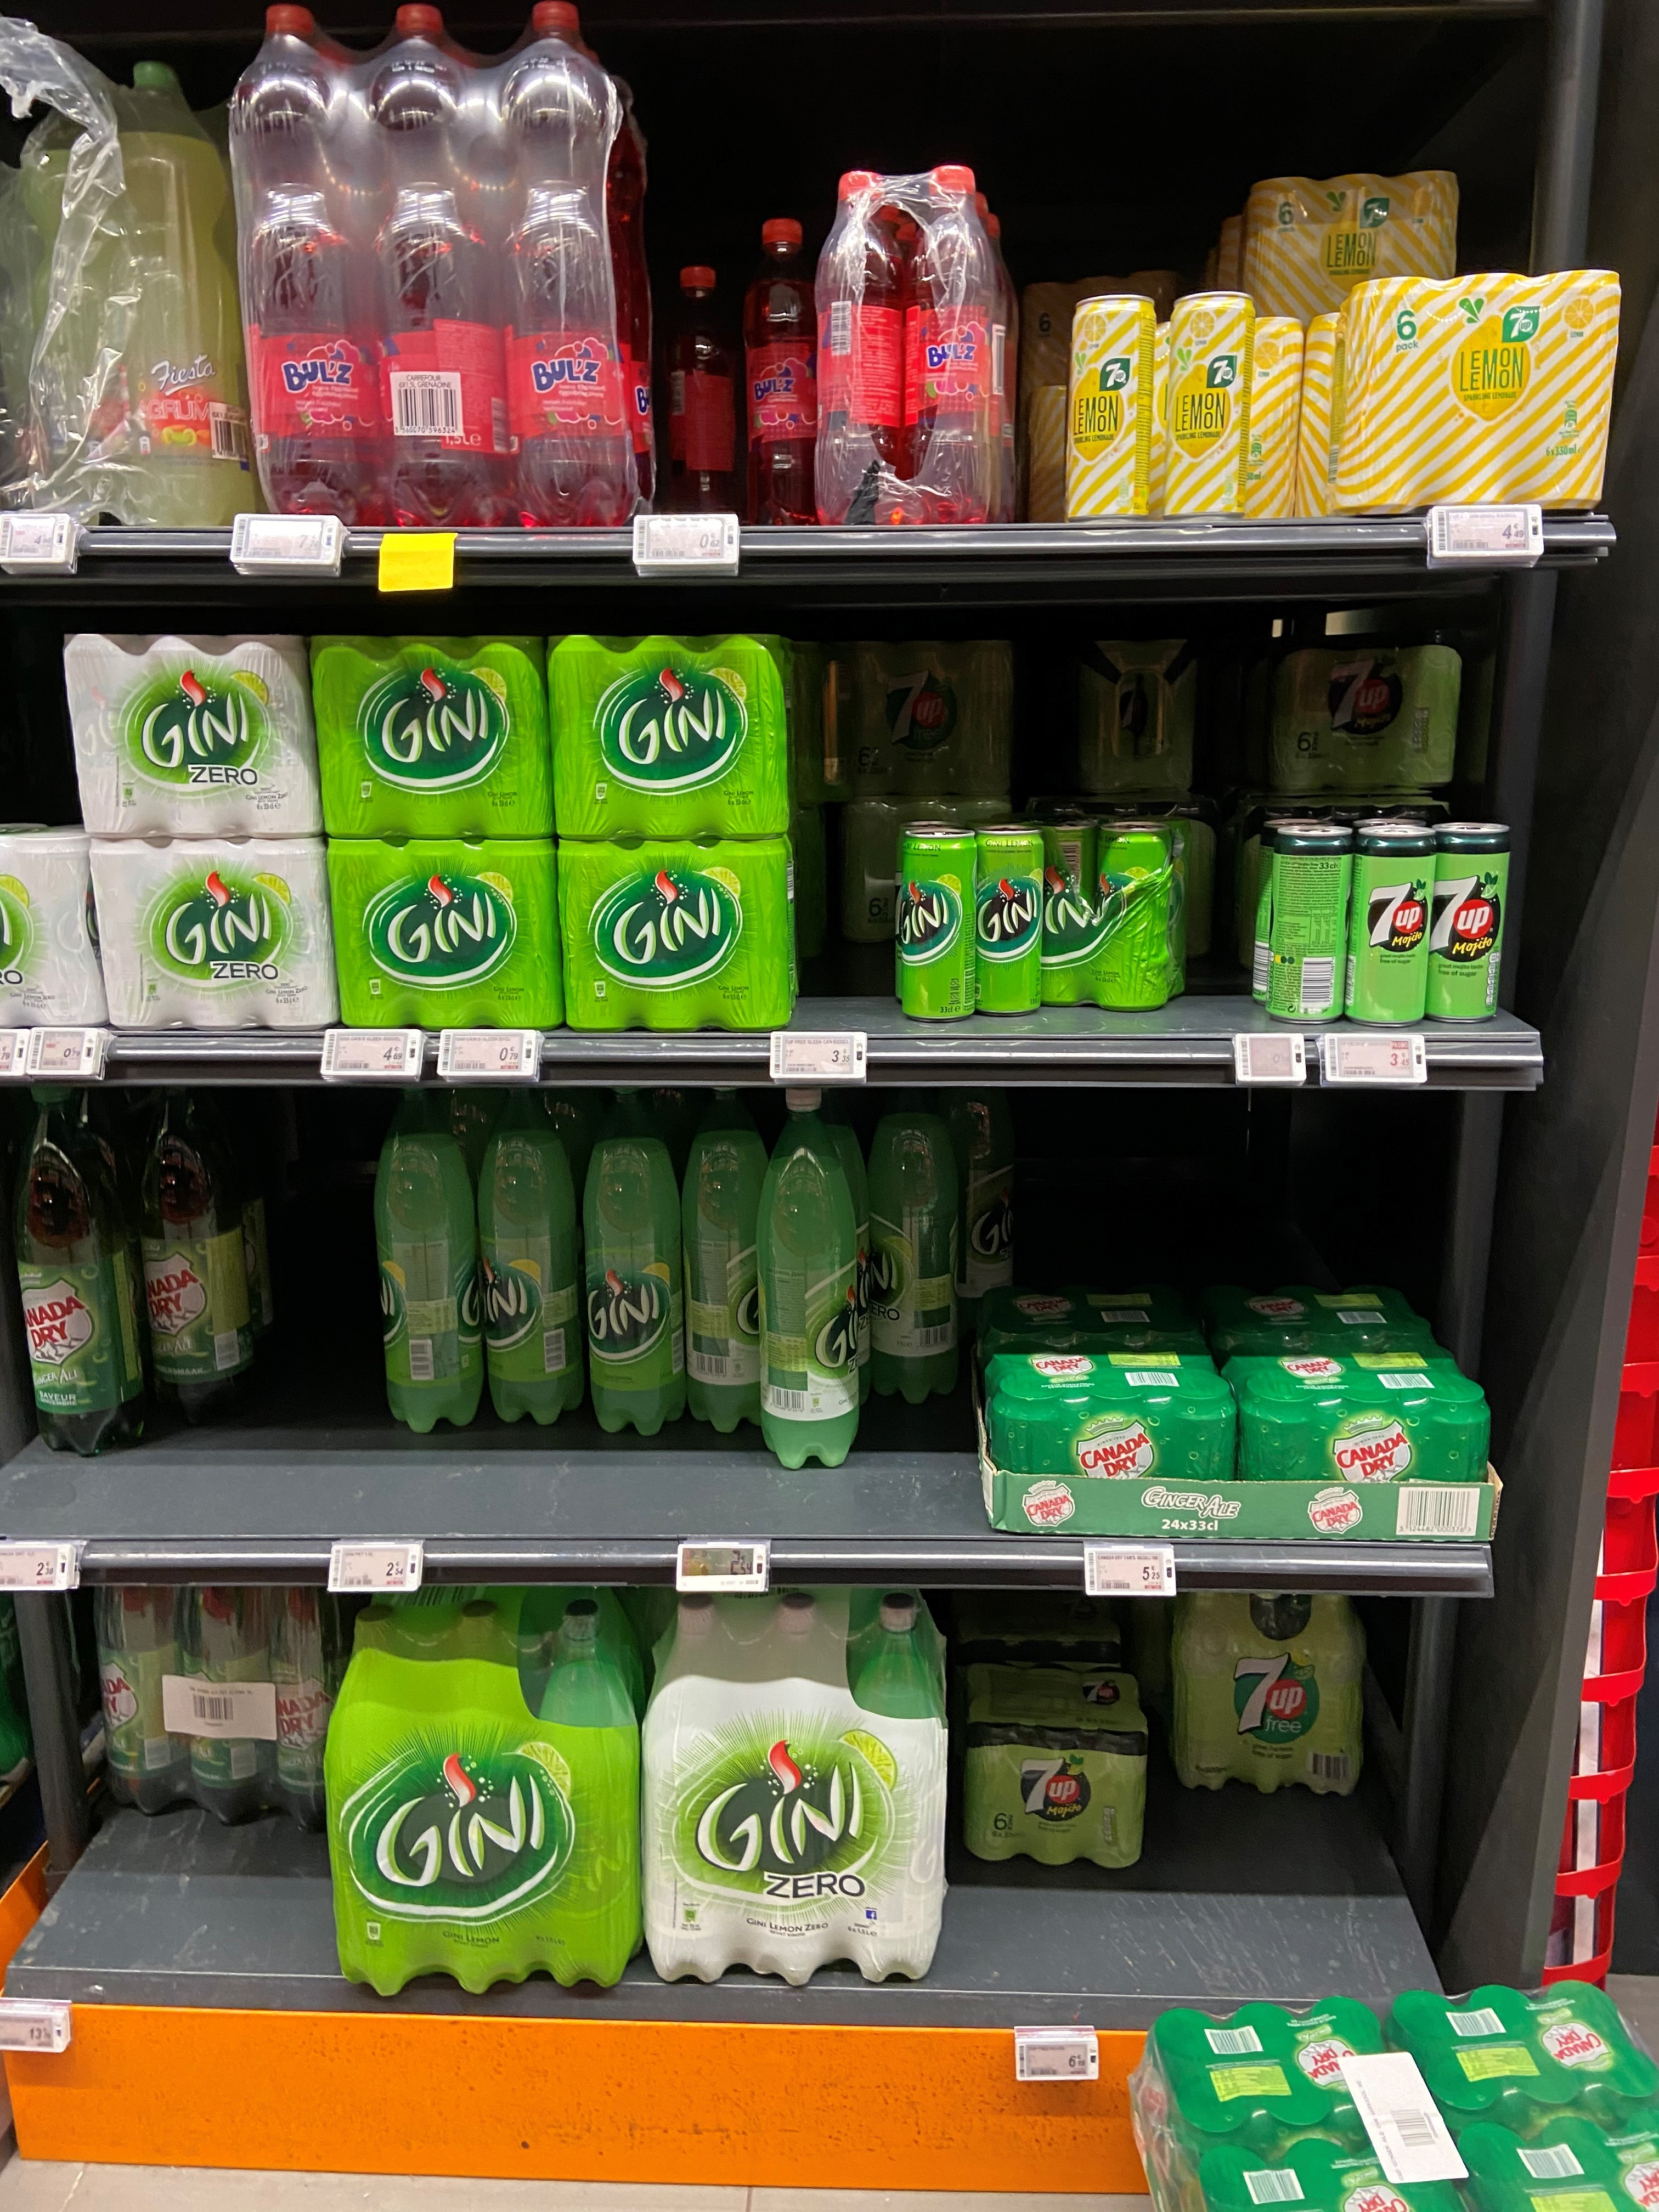7upFree: (1175, 1587, 1368, 1797), (842, 641, 1016, 794)
7upLemon: (1330, 272, 1621, 517), (1244, 171, 1460, 320), (1164, 293, 1255, 523), (1066, 294, 1157, 521)
7upMojito: (958, 1662, 1148, 1878), (1269, 644, 1464, 796), (1072, 636, 1199, 792), (1349, 822, 1438, 1028), (1263, 824, 1354, 1024), (1427, 820, 1513, 1026)
Bulz500ml: (739, 218, 819, 533)
Bulz6x1,5l: (228, 0, 648, 529)
Bulz6x500ml: (817, 164, 1018, 536)
CanadaDryBlik6x33cl: (1223, 1339, 1486, 1522), (985, 1343, 1236, 1521)
CanadaDryFles1,5L: (9, 1071, 143, 1456), (127, 1064, 258, 1423)
CanadaDryFles6x1,5L: (99, 1557, 350, 1831)
FiestaAgrum: (80, 59, 246, 533)
GiniBlik33cl: (897, 827, 979, 1022), (1100, 822, 1175, 1012), (1025, 819, 1100, 1008), (974, 822, 1046, 1017)
GiniBlik6x33cl: (547, 632, 795, 843), (308, 632, 554, 843), (324, 838, 566, 1033), (558, 838, 798, 1033)
GiniFles1,5L: (369, 1066, 481, 1435), (477, 1068, 584, 1423), (584, 1068, 685, 1437)
GiniFles6x1,5L: (326, 1585, 641, 1994)
GiniZeroBlik: (63, 631, 326, 841), (84, 841, 336, 1035)
GiniZeroFles1,5L: (755, 1083, 859, 1470), (687, 1066, 777, 1432), (870, 1082, 960, 1404)
GiniZeroFles6x1,5L: (640, 1580, 950, 1984)
__UNKNOWN: (662, 265, 739, 526)
